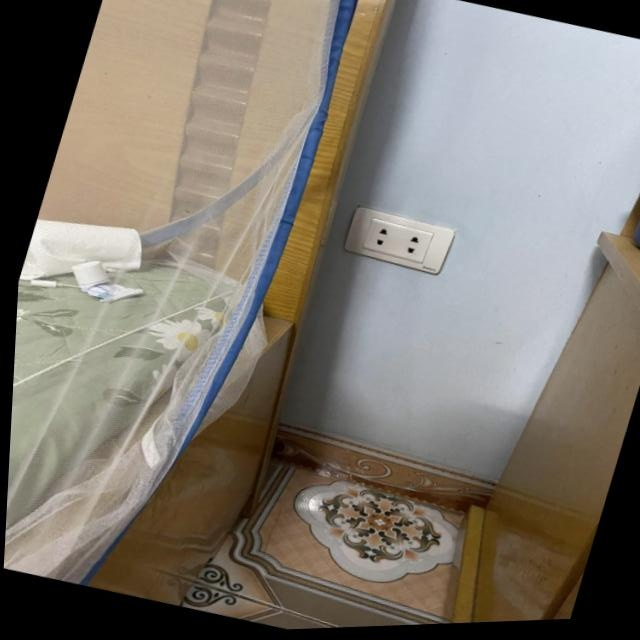outlet: (338, 203, 457, 281)
